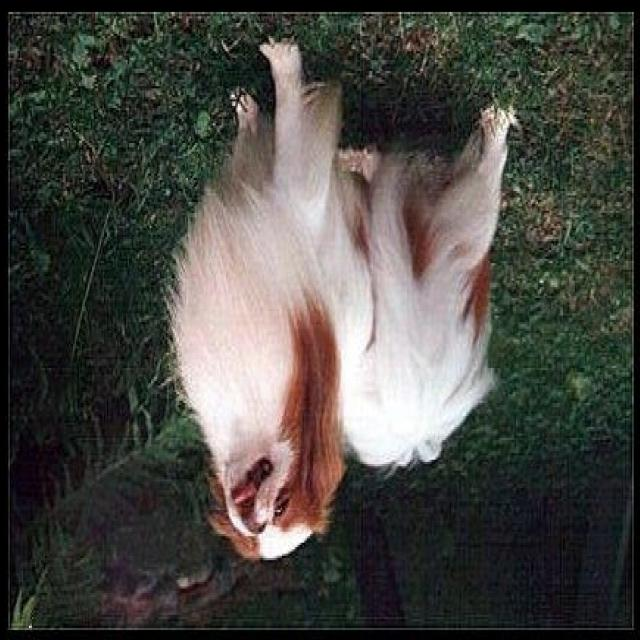husky: (158, 35, 516, 561)
